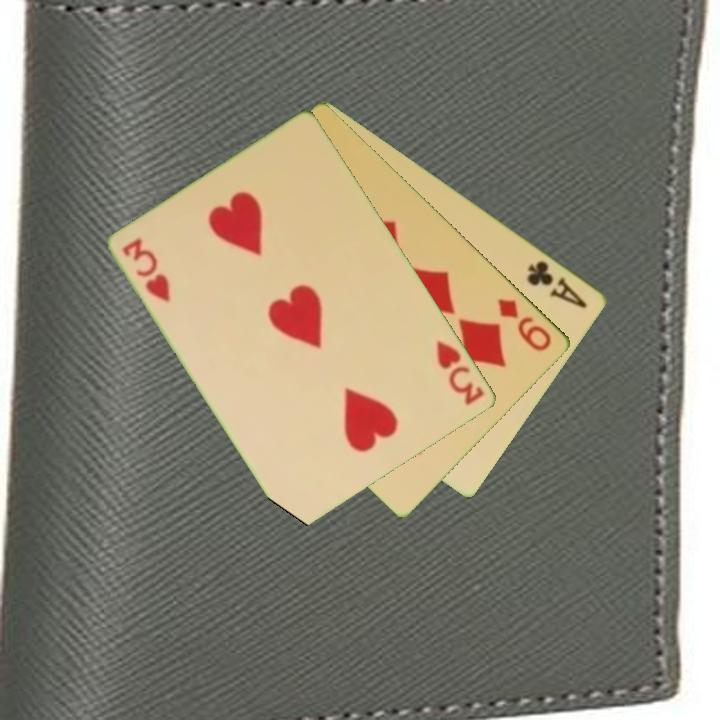3h: (433, 337, 488, 409), (119, 234, 174, 306)
9d: (494, 294, 555, 355)
Ac: (523, 257, 591, 312)
